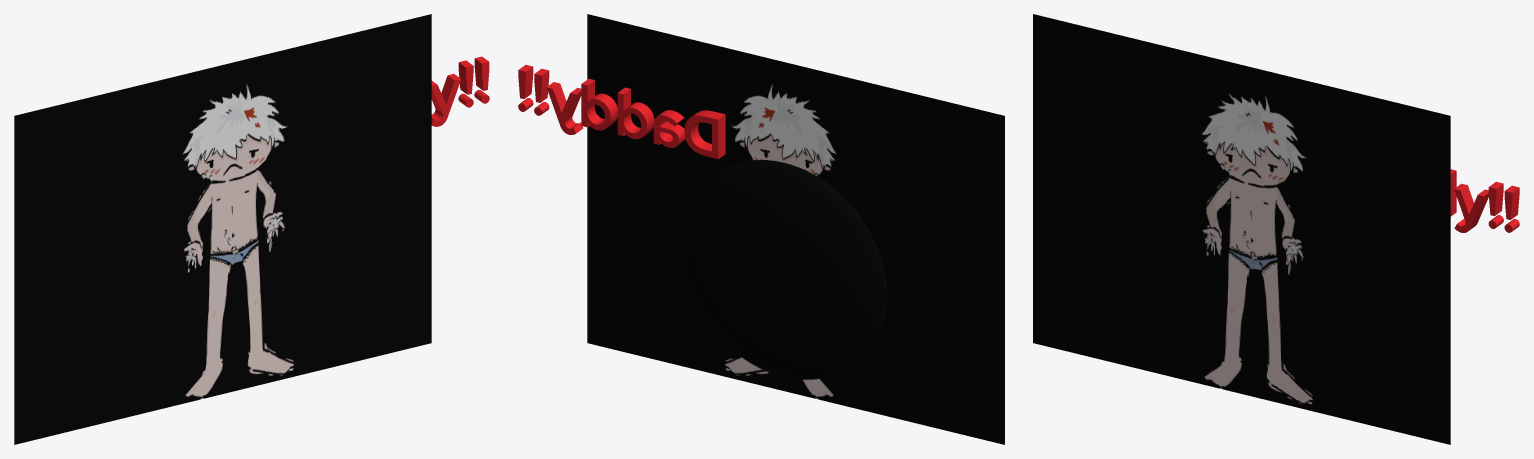
Rendered from touya.glb.
3 views of the same model, side by side, from view 1: azimuth 30°, elevation 25°; view 2: azimuth 150°, elevation 25°; view 3: azimuth 330°, elevation 25° (orthographic).
Visible parts, largest first — view 1: mesh_id91, mesh_id87; view 2: mesh_id91, mesh_id33, mesh_id87; view 3: mesh_id91, mesh_id87.
Part boxes in pixels (<box>): mesh_id91: <box>14,14,431,444</box>; mesh_id87: <box>431,56,489,126</box>; mesh_id91: <box>587,14,1004,444</box>; mesh_id33: <box>681,160,886,379</box>; mesh_id87: <box>518,65,725,159</box>; mesh_id91: <box>1033,14,1450,444</box>; mesh_id87: <box>1450,169,1519,232</box>.
Size of the model in its own units: 0.7055 by 0.4647 by 0.0303.
Materials: 3 (3 with a texture image).
